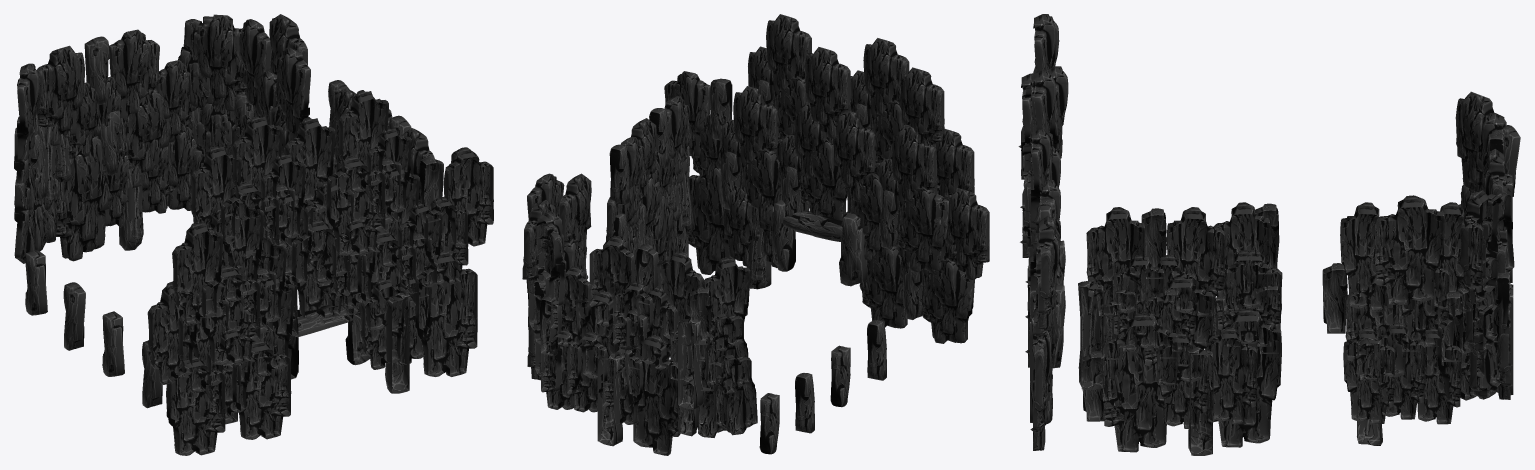
Rendered from RockWall.fbx.
3 views of the same model, side by side, from view 1: azimuth 30°, elevation 25°; view 2: azimuth 150°, elevation 25°; view 3: azimuth 270°, elevation 25° (orthographic). The views are drawn at different scales.
Visible parts, largest first — view 1: roks.073, roks.031, roks.102, roks.110, roks.072, roks.086, roks.099, roks.030, roks.027, roks.085, roks.106, roks.095 (+57 smaller); view 2: roks.031, roks.102, roks.092, roks.073, roks.108, roks.111, roks.034, roks.109, roks.099, roks.075, roks.050, roks.091 (+65 smaller); view 3: roks.060, roks.071, roks.059, roks.062, roks.065, roks.007, roks.010, roks.012, roks.004, roks.006, roks.011, roks.063 (+39 smaller).
Part boxes in pixels (x1,y1,x2,y2): roks.073: [415, 250, 477, 376]; roks.031: [56, 136, 111, 261]; roks.102: [166, 356, 225, 455]; roks.110: [172, 222, 223, 325]; roks.072: [443, 147, 493, 246]; roks.086: [326, 156, 385, 255]; roks.099: [231, 340, 291, 439]; roks.030: [36, 45, 84, 146]; roks.027: [196, 14, 246, 111]; roks.085: [337, 90, 388, 193]; roks.106: [201, 265, 260, 365]; roks.095: [231, 115, 282, 218]; roks.031: [625, 335, 683, 455]; roks.102: [920, 258, 974, 343]; roks.092: [896, 186, 948, 272]; roks.073: [688, 166, 735, 274]; roks.108: [804, 47, 850, 139]; roks.111: [945, 188, 989, 280]; roks.034: [589, 235, 635, 326]; roks.109: [899, 67, 944, 147]; roks.099: [859, 246, 907, 328]; roks.075: [733, 86, 778, 167]; roks.050: [701, 257, 750, 351]; roks.091: [891, 124, 937, 206]; roks.060: [1101, 313, 1178, 452]; roks.071: [1374, 195, 1444, 304]; roks.059: [1086, 207, 1145, 316]; roks.062: [1166, 207, 1225, 316]; roks.065: [1205, 327, 1257, 424]; roks.007: [1206, 308, 1281, 447]; roks.010: [1340, 202, 1388, 311]; roks.012: [1345, 274, 1416, 380]; roks.004: [1409, 327, 1461, 424]; roks.006: [1213, 202, 1270, 311]; roks.011: [1343, 327, 1395, 424]; roks.063: [1157, 332, 1208, 428].
Size of the model in its own units: 22.89 by 20.12 by 26.45.
